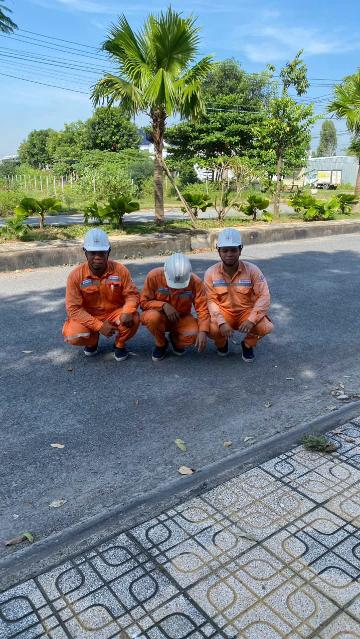helmet: (81, 226, 121, 256), (166, 258, 193, 286), (218, 228, 245, 250)
shoes: (146, 335, 172, 363), (81, 336, 102, 366), (241, 335, 258, 368), (115, 340, 133, 364), (214, 340, 233, 357), (171, 337, 186, 358)
